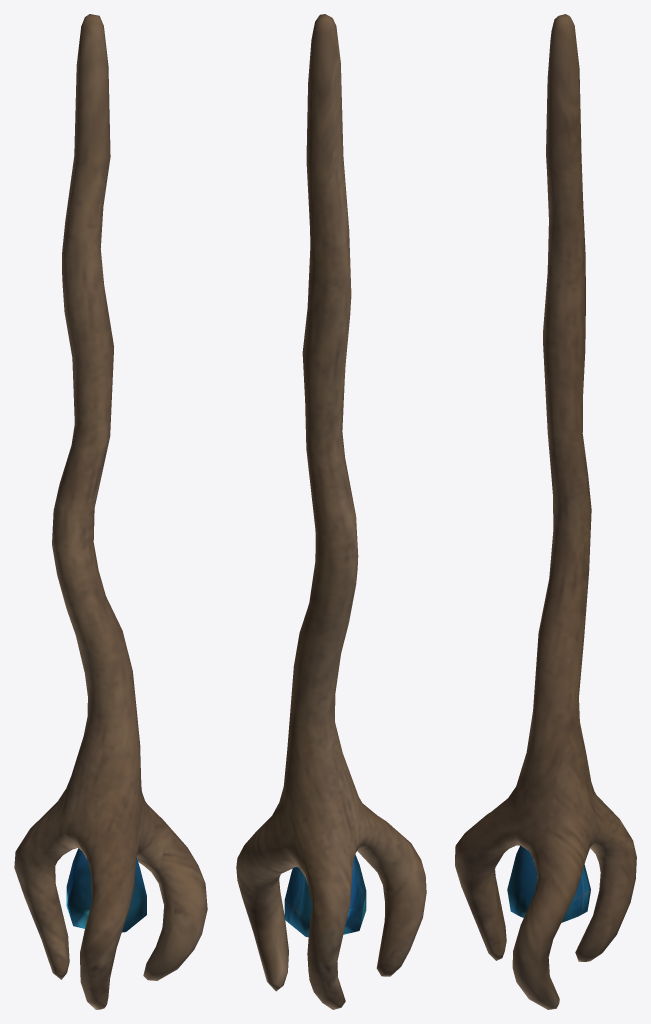
File: AuthenticIceStaff.fbx
3 renders of one model, left to right at view 1: azimuth 30°, elevation 25°; view 2: azimuth 150°, elevation 25°; view 3: azimuth 270°, elevation 25°, orthographic. The views are drawn at different scales.
Visible parts, largest first — view 1: Staff; view 2: Staff; view 3: Staff.
Boxes of the visible parts, bbox=[...] form: Staff: bbox=[14, 14, 207, 1009]; Staff: bbox=[236, 14, 426, 1009]; Staff: bbox=[455, 14, 636, 1009].
Size of the model in its own units: 0.1102 by 0.6853 by 0.1167.
